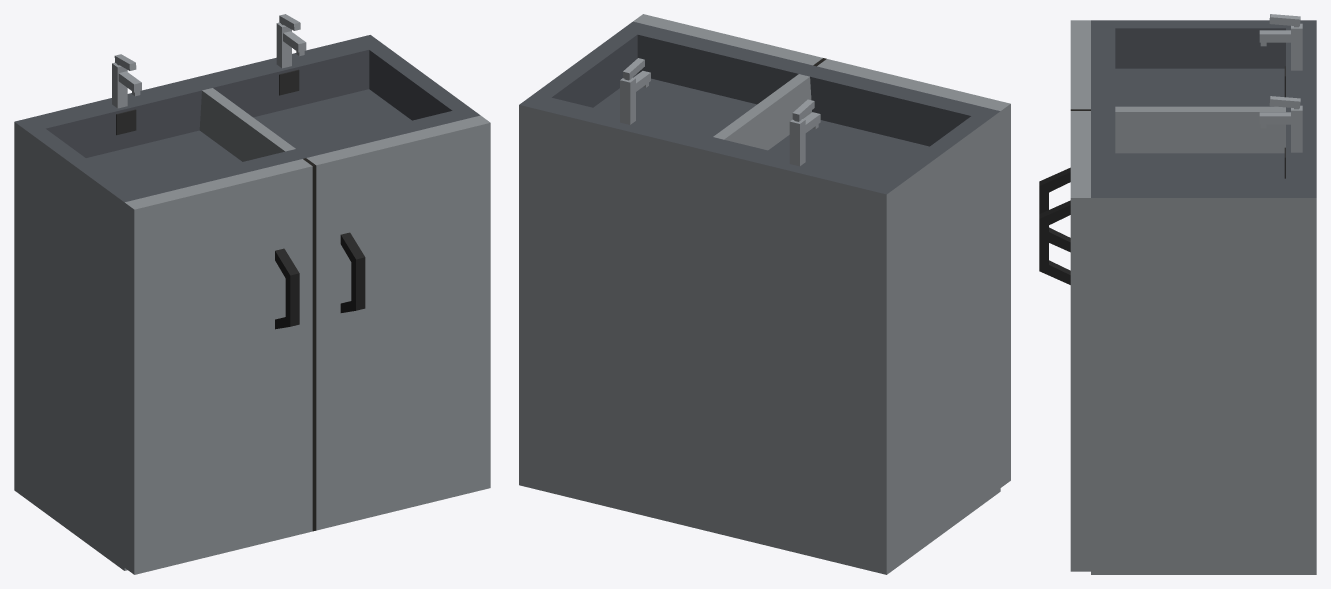
Rendered from Kitchen_Cabinet_5C.fbx.
3 renders of one model, left to right at view 1: azimuth 30°, elevation 25°; view 2: azimuth 150°, elevation 25°; view 3: azimuth 270°, elevation 25°, orthographic. The views are drawn at different scales.
Visible parts, largest first — view 1: polySurface1784; view 2: polySurface1784; view 3: polySurface1784.
Boxes of the visible parts, box(x1,y1,x2,y2) form: polySurface1784: box(14, 14, 490, 574); polySurface1784: box(519, 14, 1010, 574); polySurface1784: box(1039, 14, 1316, 574).
Size of the model in its own units: 1.3 by 1.46 by 0.8565.
1 material, 1 textured.
